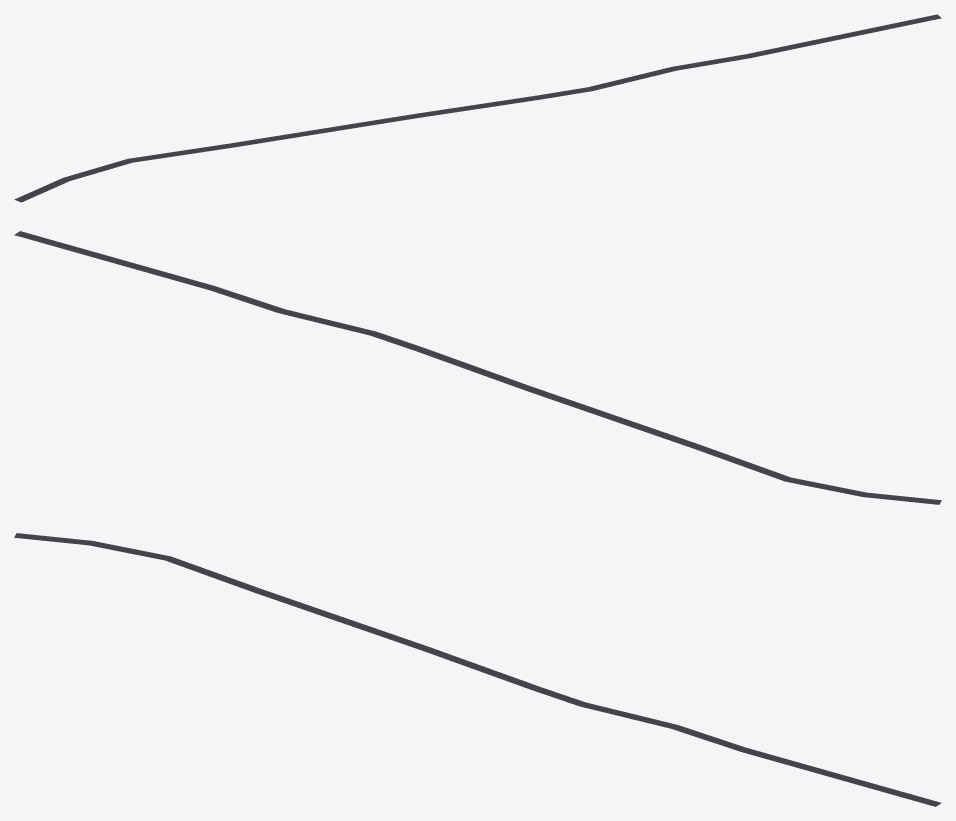
Rendered from district_3_1.glb.
3 views of the same model, one above another, from view 1: azimuth 30°, elevation 25°; view 2: azimuth 150°, elevation 25°; view 3: azimuth 330°, elevation 25° (orthographic). The views are drawn at different scales.
Parts seen in each view (by area): view 1: Road улица Текстильщиков; view 2: Road улица Текстильщиков; view 3: Road улица Текстильщиков.
Boxes of the visible parts, x1,y1,x2,y2 form: Road улица Текстильщиков: (14, 14, 941, 202); Road улица Текстильщиков: (14, 231, 941, 504); Road улица Текстильщиков: (14, 533, 941, 806).
Size of the model in its own units: 396 by 0 by 46.27.
1 material, 1 textured.
